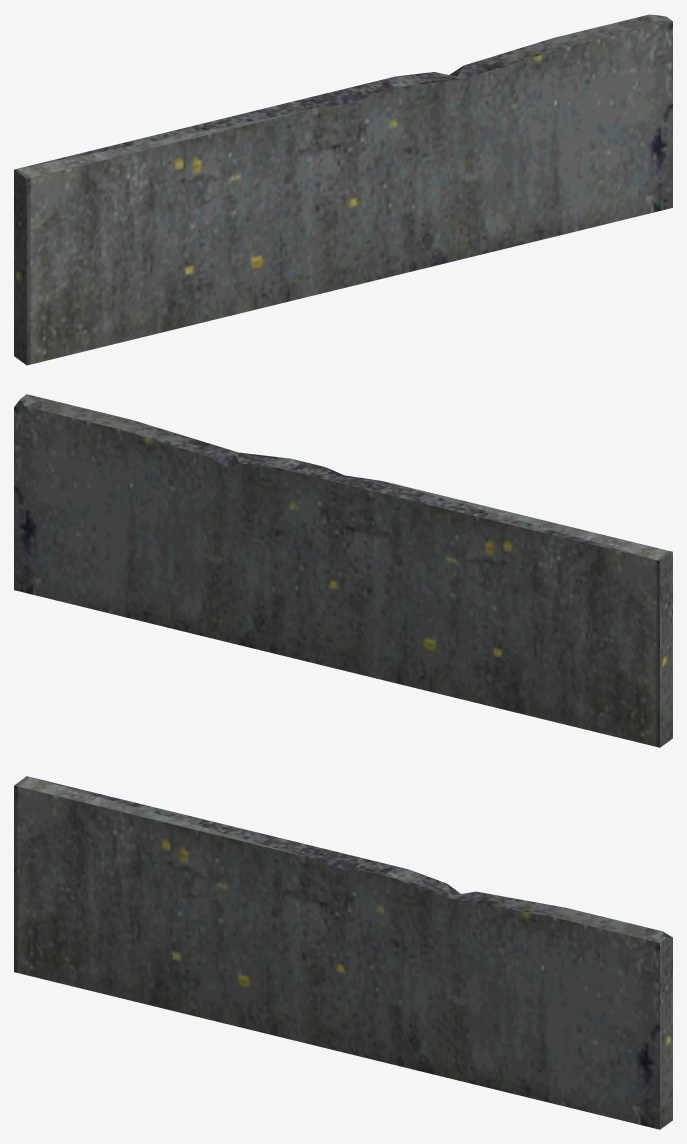
File: Urban_PlackardSlabChippedAlt_Alternate_9c22c6_Model.fbx
The picture shows the model from 3 angles, top to bottom: view 1: azimuth 30°, elevation 25°; view 2: azimuth 150°, elevation 25°; view 3: azimuth 330°, elevation 25°; orthographic projection.
Parts seen in each view (by area): view 1: Urban_PlackardSlabChippedAlt_Alternate_9c22c6_Mesh; view 2: Urban_PlackardSlabChippedAlt_Alternate_9c22c6_Mesh; view 3: Urban_PlackardSlabChippedAlt_Alternate_9c22c6_Mesh.
Boxes of the visible parts, x1,y1,x2,y2 form: Urban_PlackardSlabChippedAlt_Alternate_9c22c6_Mesh: (14,14,672,365); Urban_PlackardSlabChippedAlt_Alternate_9c22c6_Mesh: (14,394,672,747); Urban_PlackardSlabChippedAlt_Alternate_9c22c6_Mesh: (14,776,672,1129).
Size of the model in its own units: 2.9 by 0.8 by 0.1.
